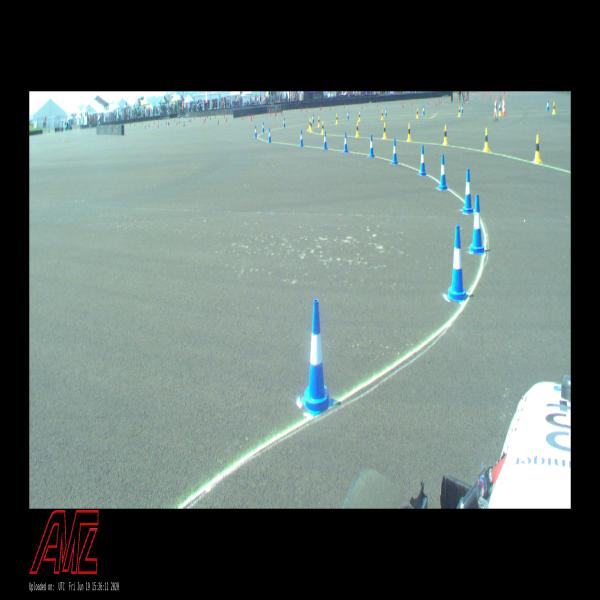blue_cone: (300, 300, 334, 418), (447, 225, 467, 303), (470, 194, 485, 254), (462, 168, 474, 214), (438, 154, 448, 190), (418, 146, 427, 176), (392, 139, 398, 165), (369, 134, 374, 158), (323, 131, 328, 150), (344, 132, 348, 152), (300, 130, 304, 147), (268, 128, 271, 143), (546, 100, 550, 111), (254, 125, 257, 138), (262, 122, 265, 133), (312, 113, 314, 124), (385, 108, 387, 118), (347, 110, 349, 120), (283, 118, 285, 128), (461, 104, 463, 114), (423, 105, 425, 114)
large_orange_cone: (502, 98, 506, 116), (494, 96, 497, 116)
yellow_cone: (533, 134, 542, 164), (483, 128, 489, 152), (443, 126, 448, 146), (407, 123, 412, 141), (382, 122, 387, 139), (356, 121, 360, 137), (552, 102, 556, 114), (310, 120, 313, 132), (308, 118, 311, 130), (358, 111, 361, 122), (416, 108, 419, 119), (458, 107, 461, 118), (322, 121, 324, 134), (318, 116, 320, 127), (381, 110, 383, 120), (336, 114, 338, 124), (499, 105, 501, 115)
